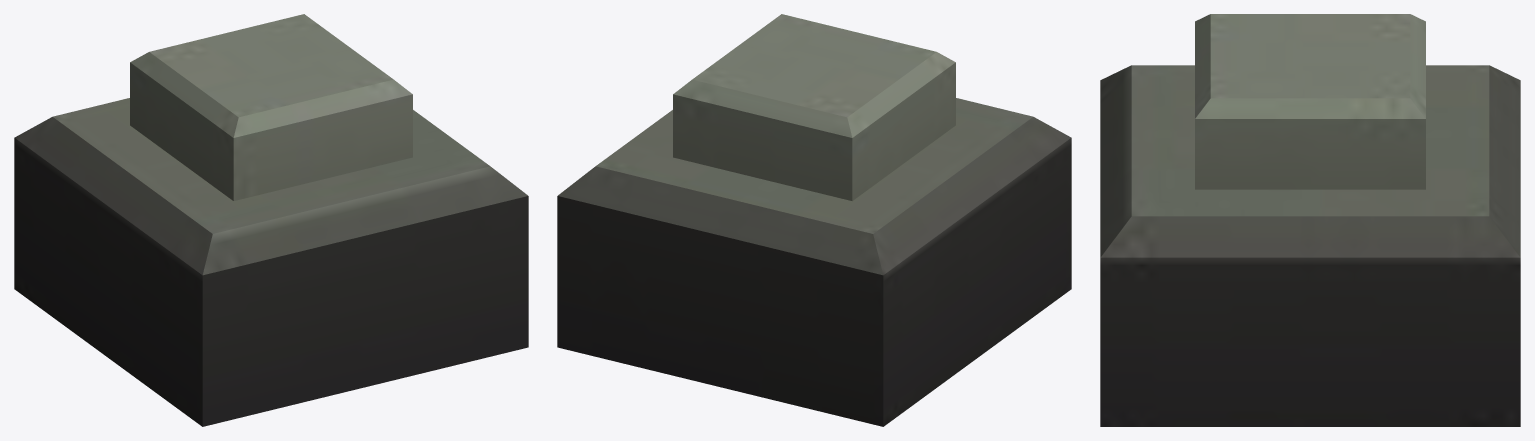
File: electric-mining-drill.glb
The picture shows the model from 3 angles, left to right: view 1: azimuth 30°, elevation 25°; view 2: azimuth 150°, elevation 25°; view 3: azimuth 270°, elevation 25°; orthographic projection. The views are drawn at different scales.
Visible parts, largest first — view 1: electric-mining-drill; view 2: electric-mining-drill; view 3: electric-mining-drill.
Boxes of the visible parts, box(x1,y1,x2,y2) form: electric-mining-drill: box(14, 14, 528, 426); electric-mining-drill: box(557, 14, 1071, 426); electric-mining-drill: box(1100, 14, 1520, 426).
Bounding box in the file's own units: 0.27 × 0.2 × 0.27.
Materials: 1 (1 with a texture image).
